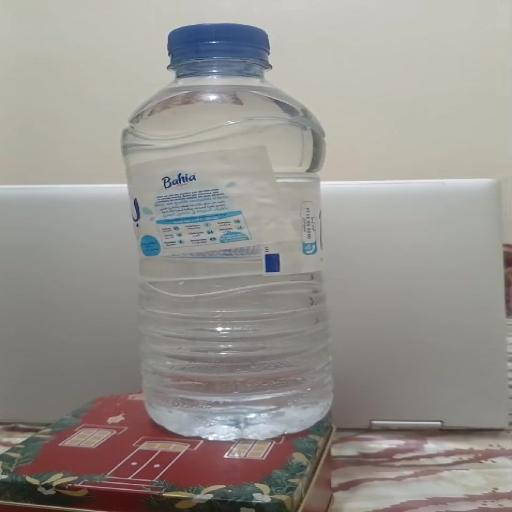bouteille conformite: (46, 14, 402, 398)
